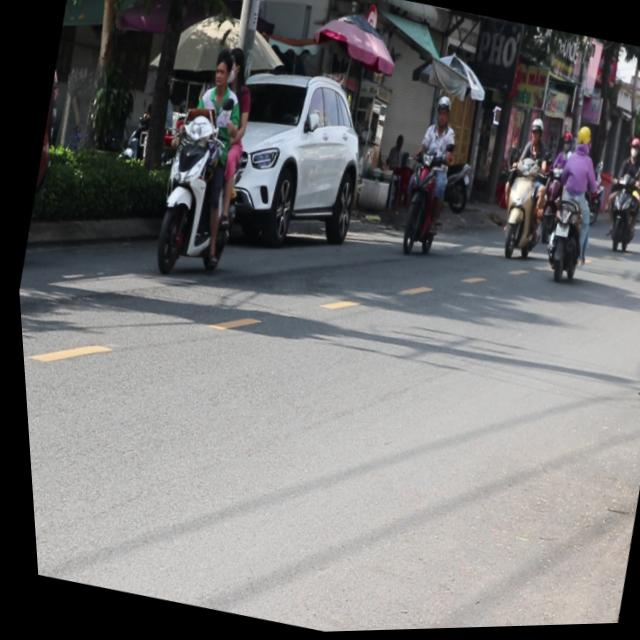helmet: (427, 94, 451, 129), (569, 125, 590, 154), (523, 116, 542, 144)
licenseplate: (132, 36, 273, 285), (381, 90, 469, 262), (527, 121, 613, 288), (483, 112, 562, 265), (612, 104, 640, 417)
motorcyclist: (206, 46, 236, 91), (220, 46, 248, 90)
nohelmet: (549, 221, 565, 239)
